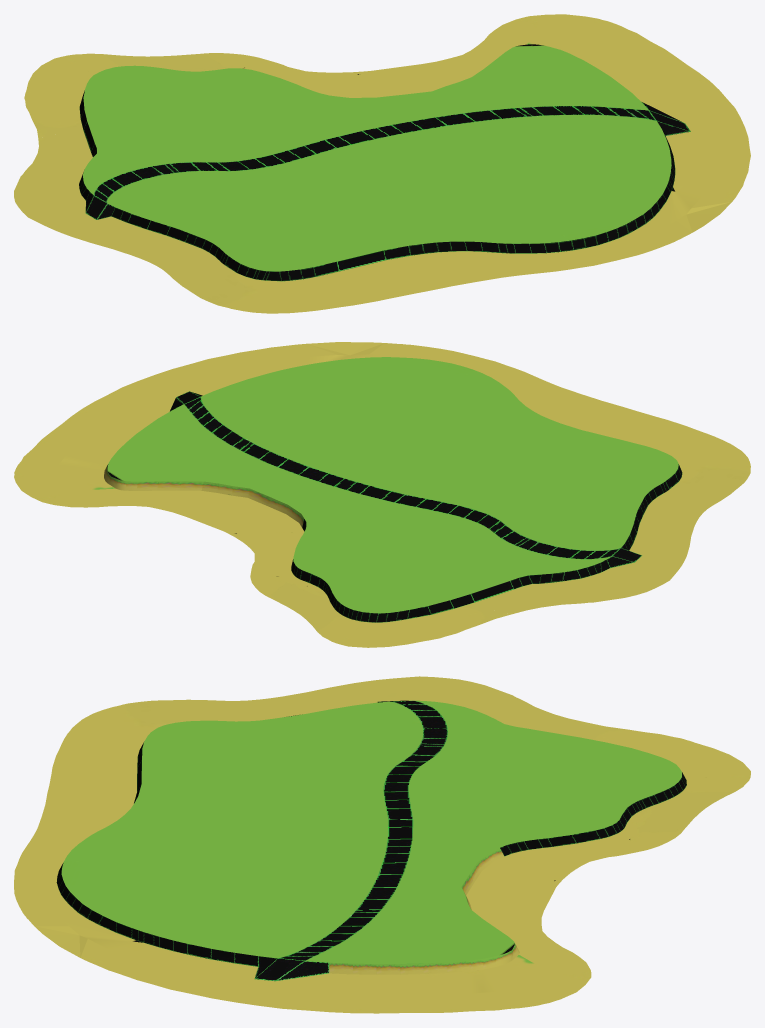
The model's file is _sle_01.fbx.
3 renders of one model, top to bottom at view 1: azimuth 30°, elevation 25°; view 2: azimuth 150°, elevation 25°; view 3: azimuth 270°, elevation 25°, orthographic. The views are drawn at different scales.
Parts seen in each view (by area): view 1: Top, Plane001, Line; view 2: Top, Plane001, Line; view 3: Top, Plane001, Line, Right.
Boxes of the visible parts, <box> form: Top: <box>79,44,675,281</box>; Plane001: <box>14,14,750,313</box>; Line: <box>85,106,690,219</box>; Top: <box>104,357,682,622</box>; Plane001: <box>14,342,750,647</box>; Line: <box>176,391,642,562</box>; Top: <box>56,700,686,974</box>; Plane001: <box>14,676,750,1013</box>; Line: <box>255,700,447,981</box>; Right: <box>254,956,329,980</box>.
Size of the model in its own units: 830 by 11.44 by 767.
Materials: 1 (1 with a texture image).
